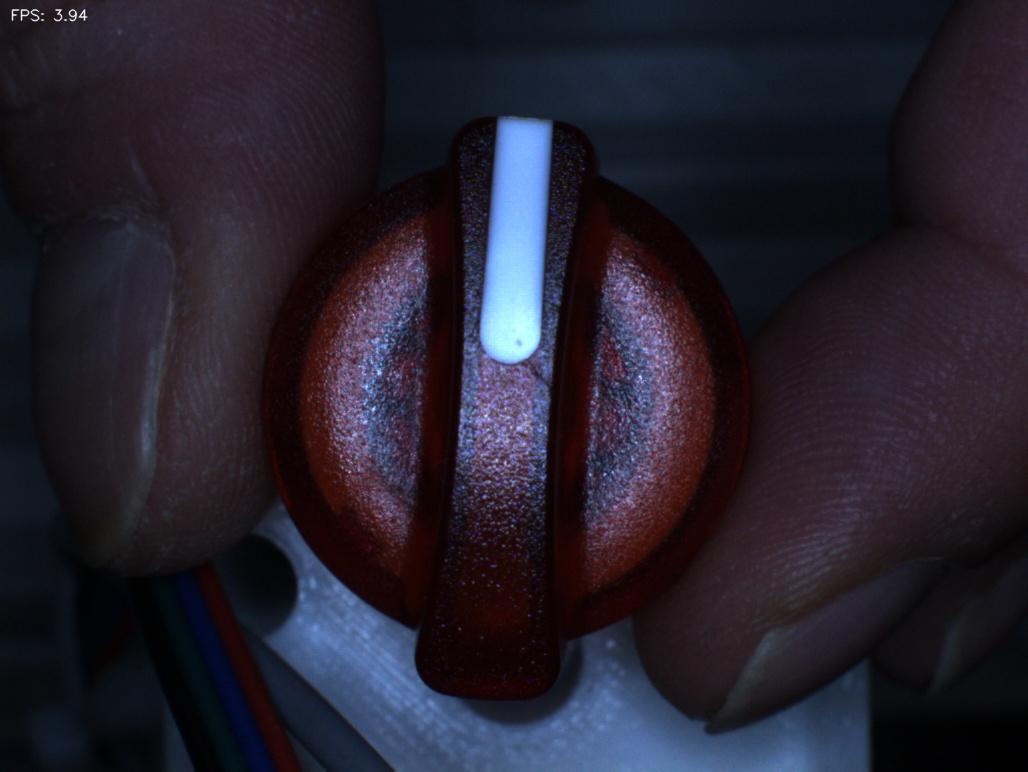PointNoir: (492, 311, 559, 382)
